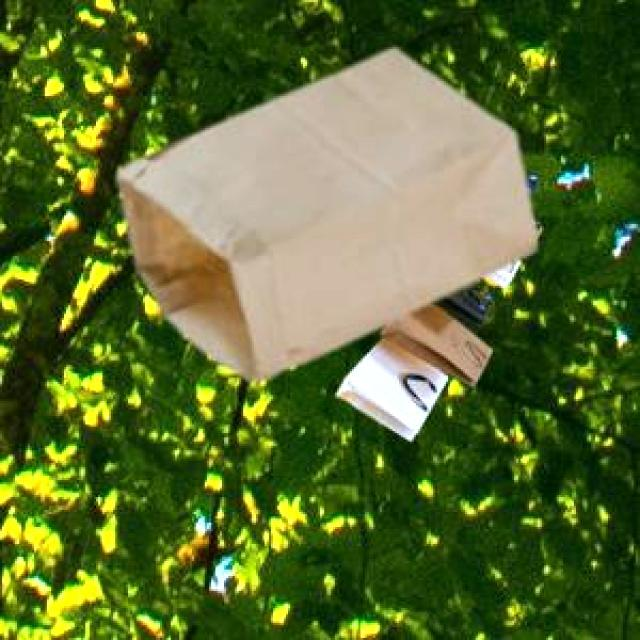Paper_Bag: (114, 46, 532, 377), (334, 165, 539, 438)
